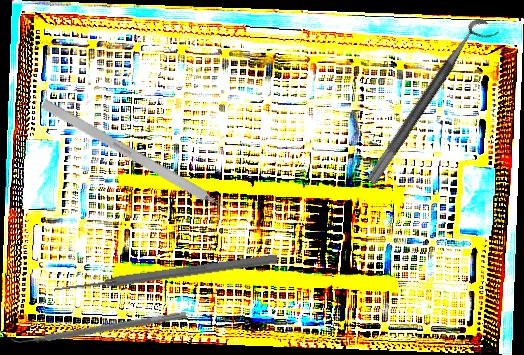Fixation Ring: (365, 14, 500, 195)
Hook Surgical: (40, 98, 246, 223)
Pusher: (53, 251, 278, 297)
Spatula Surgical: (10, 303, 187, 350)
